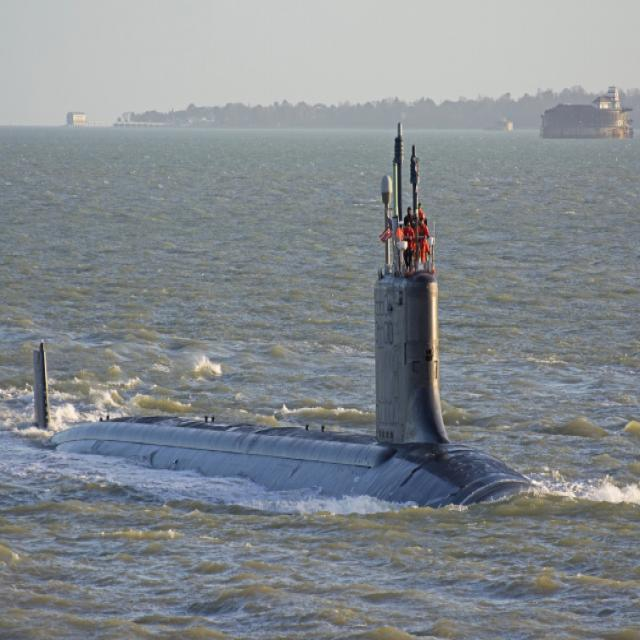submarine: (1, 223, 548, 508)
